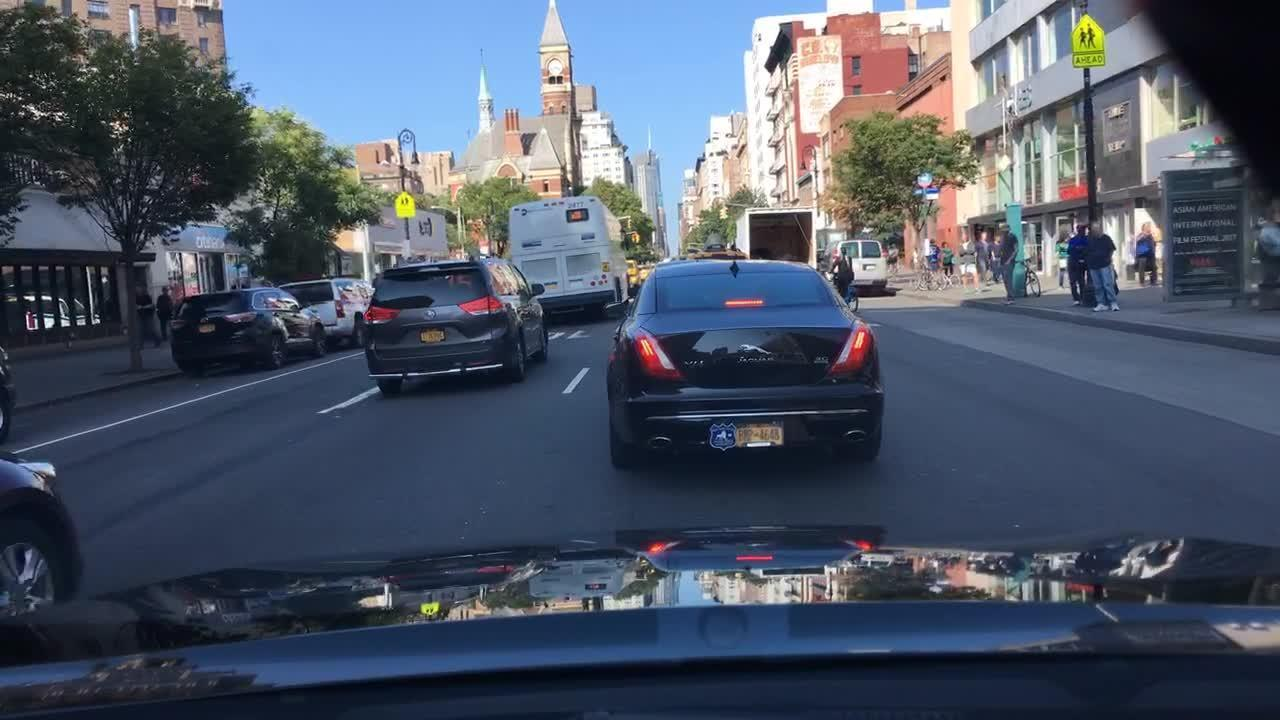no class: (737, 341, 774, 365)
